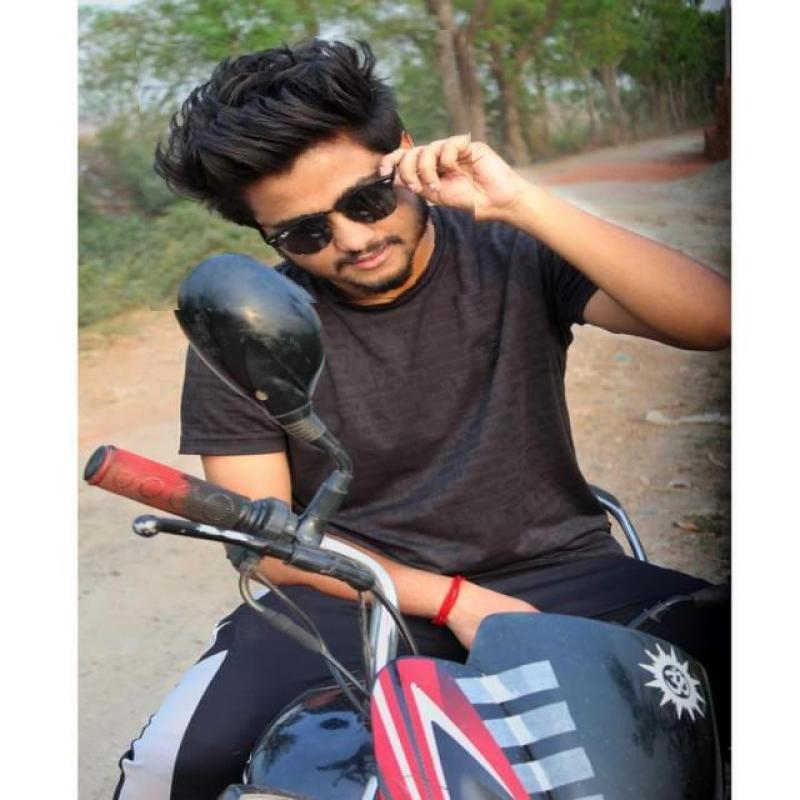nohelmet: (139, 34, 476, 308)
